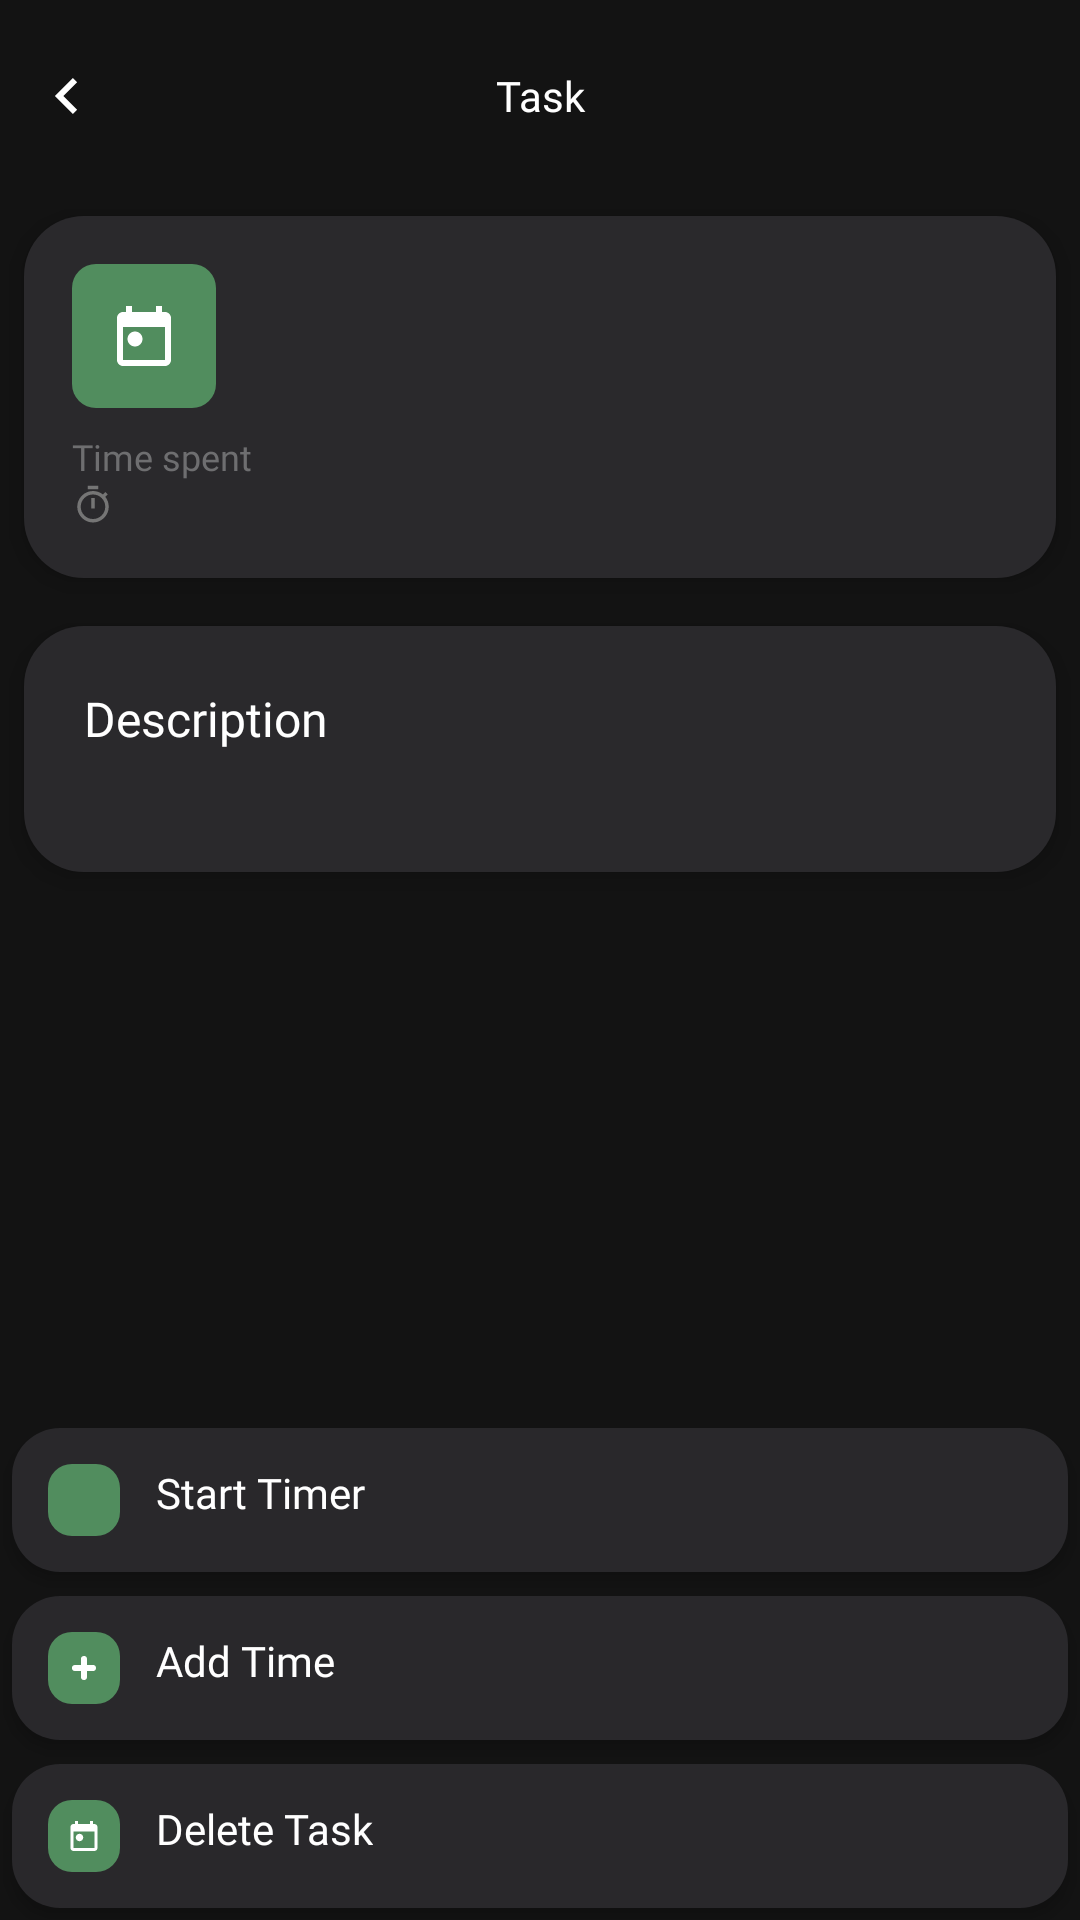

Named icons in this screenshot (1080 x 1920) and their bounding boxes, (x1, y1, x2, y2):
navigate back: (55, 78, 77, 114)
plus: (72, 1656, 96, 1680)
timer: (77, 486, 109, 523)
